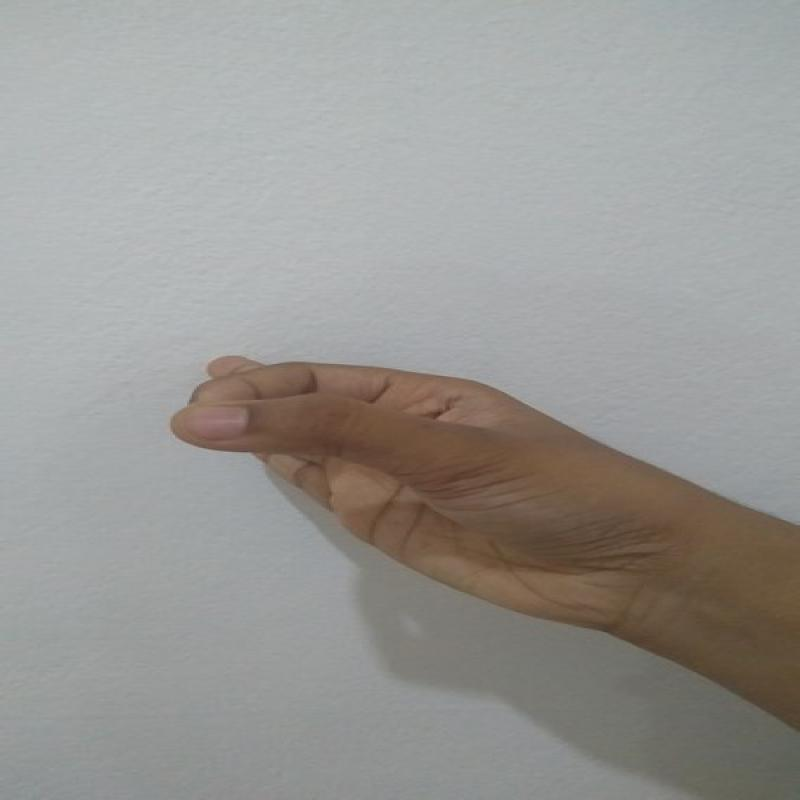Mudraakhyam: (162, 328, 659, 646)
